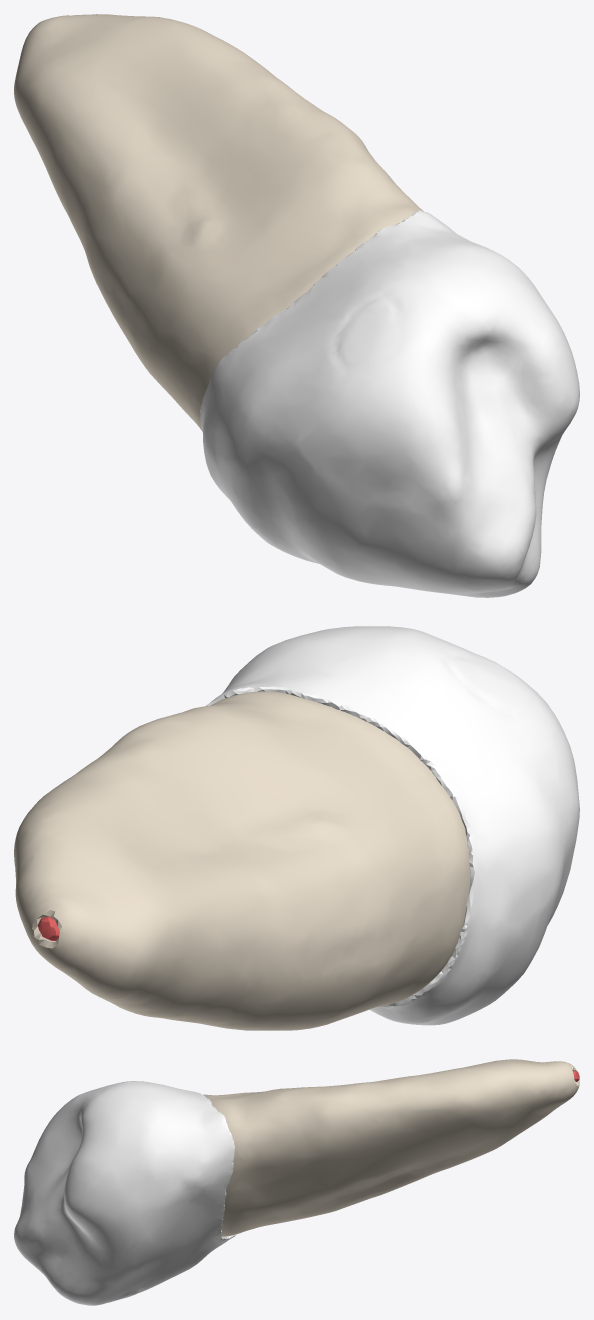
Rendered from 恒牙下颌第一双尖牙.fbx.
3 renders of one model, top to bottom at view 1: azimuth 30°, elevation 25°; view 2: azimuth 150°, elevation 25°; view 3: azimuth 270°, elevation 25°, orthographic. The views are drawn at different scales.
Parts seen in each view (by area): view 1: texture_W, texture_B; view 2: texture_B, texture_W; view 3: texture_W, texture_B.
Boxes of the visible parts, box(x1,y1,x2,y2) form: texture_W: box(200, 210, 579, 597); texture_B: box(14, 14, 423, 431); texture_B: box(14, 691, 470, 1030); texture_W: box(206, 626, 579, 1025); texture_W: box(14, 1081, 236, 1305); texture_B: box(203, 1059, 579, 1236).
Bounding box in the file's own units: 11.05 × 12.24 × 27.23.
Materials: 3 (3 with a texture image).
